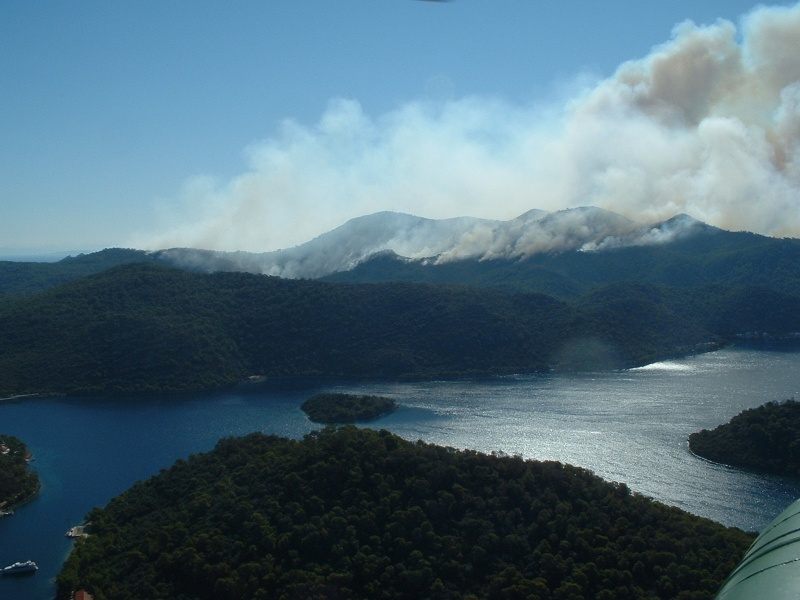smoke: (563, 1, 797, 236)
